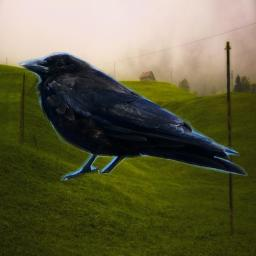Crow: (16, 52, 248, 181)
